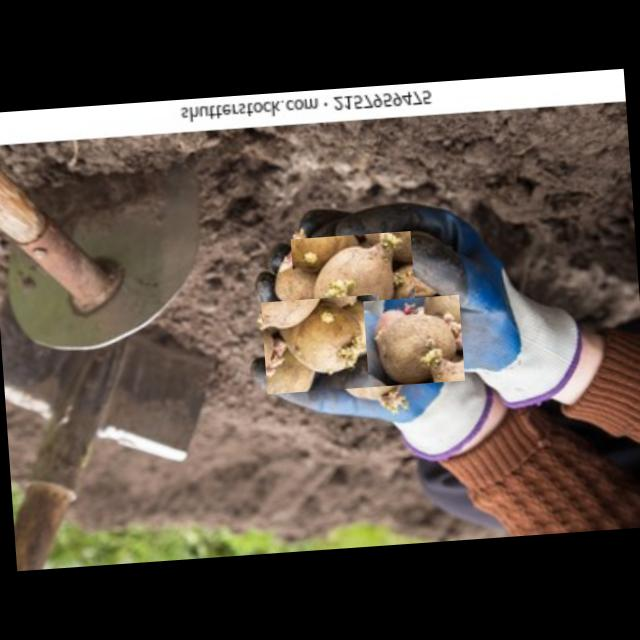Sprouted potato: (290, 230, 417, 338), (260, 294, 384, 394), (362, 294, 464, 386), (321, 330, 419, 423)
